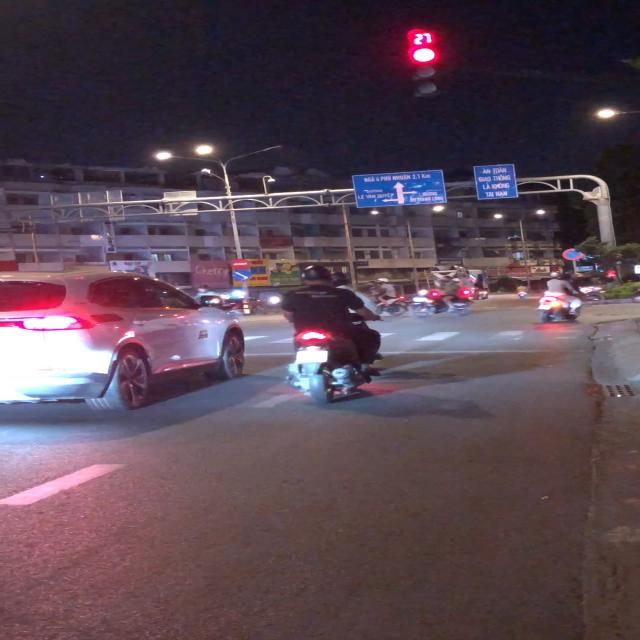Bien bao cam di nguoc chieu: (229, 258, 254, 270)
Bien bao cam do xe: (562, 248, 584, 261)
Bien bao huong phai di vong chuong ngai vat: (230, 270, 253, 282)
